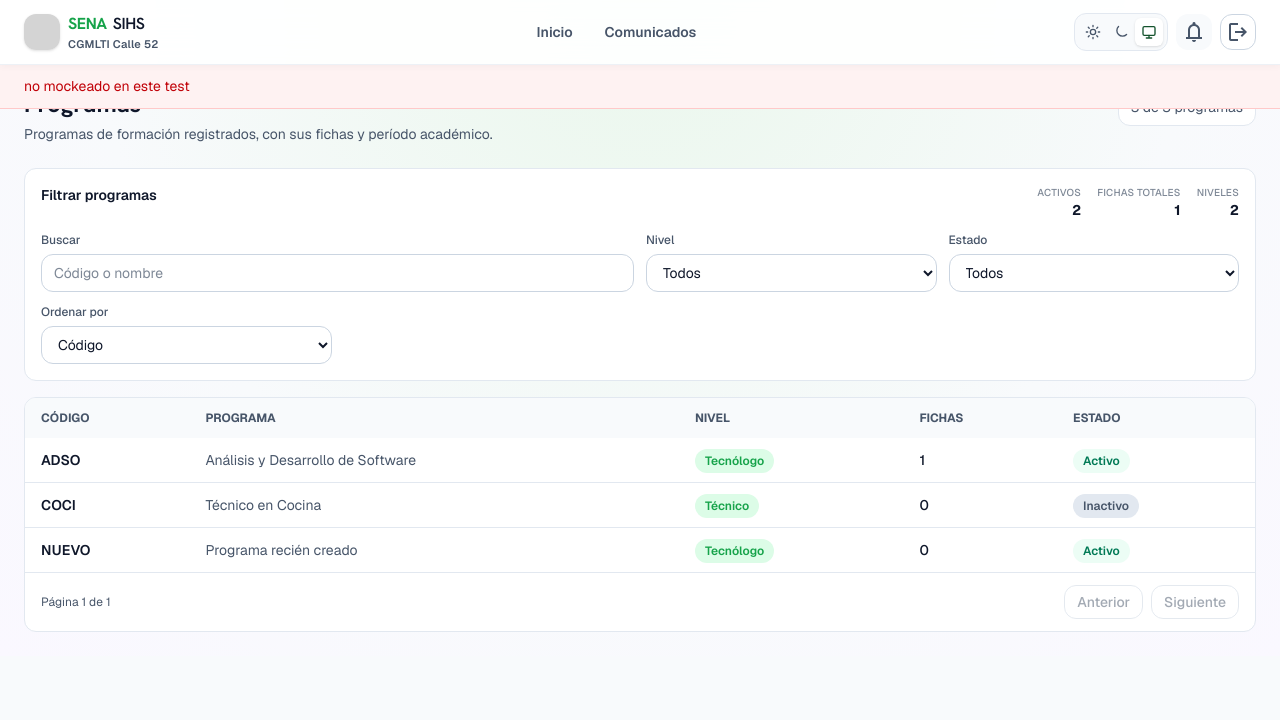
Test: Programas › un programa sin fichas asociadas muestra el mensaje correspondiente en el drawer
What coordinates should you click on to do the following:
click the text "NUEVO"
I would click on:
 (66, 550)
Its box is 25,528 -> 189,572.
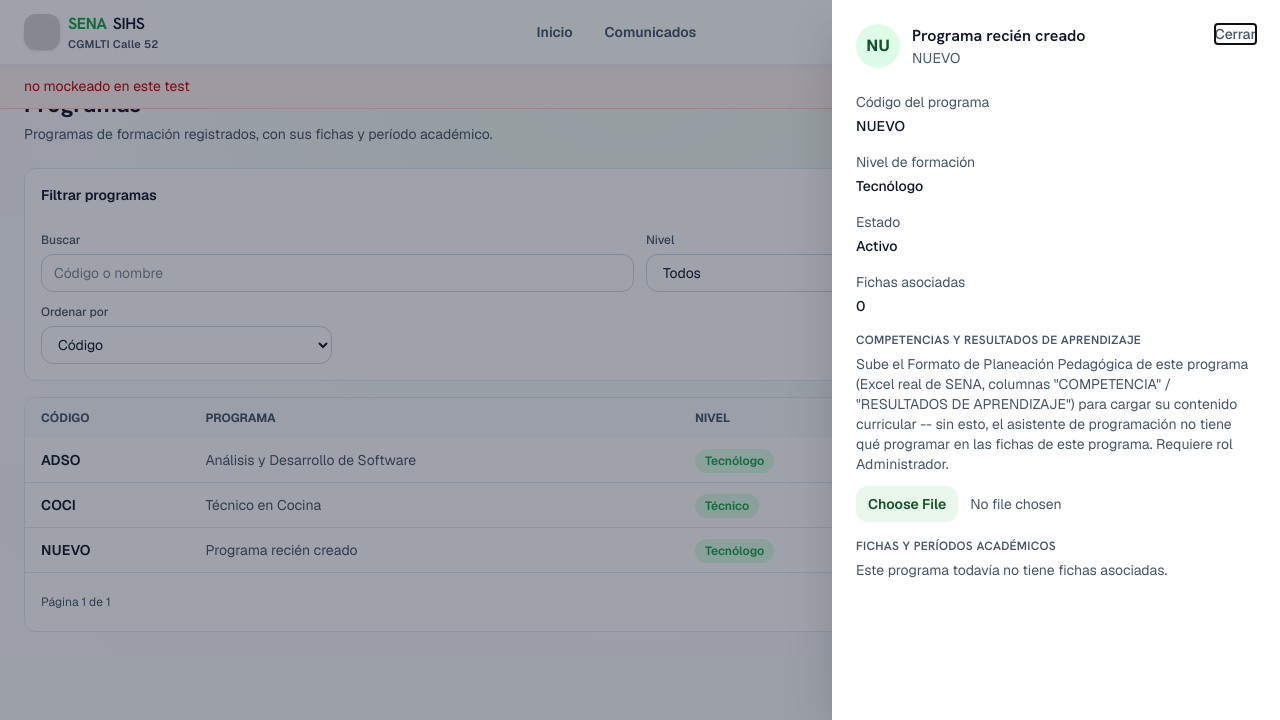
Now the text "Este programa todavía no tiene fichas asociadas." is shown, box 856,561 -> 1167,579
